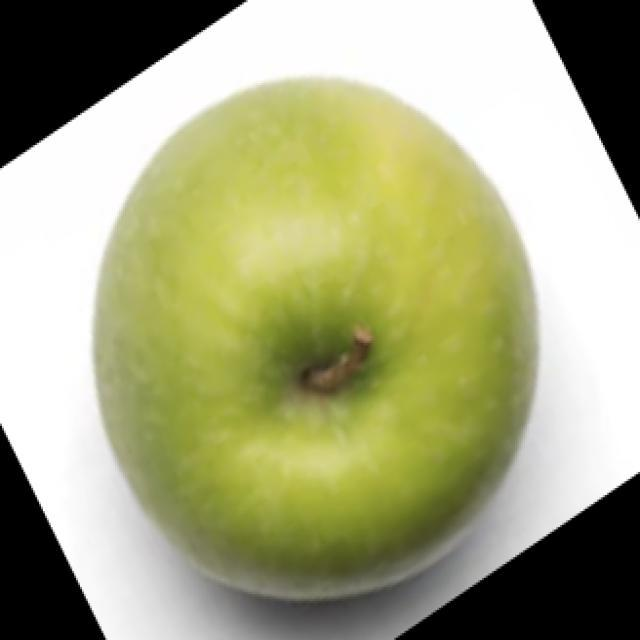Fresh Apple: (112, 80, 525, 583)
